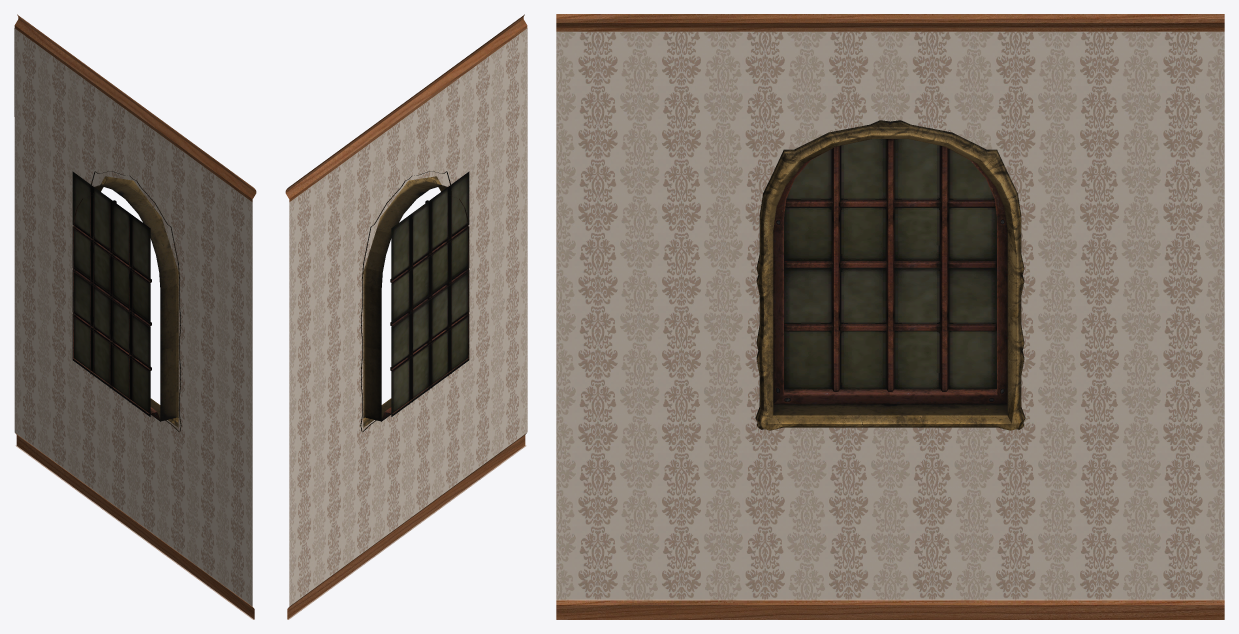
Rendered from fine_bright_small_window.dae.
The picture shows the model from 3 angles, left to right: view 1: azimuth 30°, elevation 25°; view 2: azimuth 150°, elevation 25°; view 3: azimuth 270°, elevation 25°; orthographic projection. The views are drawn at different scales.
Parts seen in each view (by area): view 1: Plane_003, window02_large_gl_001, window02_large_fr_001; view 2: Plane_003, window02_large_gl_001, window02_large_fr_001; view 3: Plane_003, window02_large_gl_001, window02_large_fr_001.
Boxes of the visible parts, x1,y1,x2,y2 form: Plane_003: [14, 14, 256, 619]; window02_large_gl_001: [72, 171, 150, 416]; window02_large_fr_001: [73, 171, 181, 432]; Plane_003: [285, 14, 527, 619]; window02_large_gl_001: [391, 171, 469, 416]; window02_large_fr_001: [360, 171, 468, 432]; Plane_003: [556, 14, 1224, 619]; window02_large_gl_001: [784, 139, 996, 389]; window02_large_fr_001: [755, 120, 1025, 430].
Size of the model in its own units: 0.2987 by 4 by 4.
